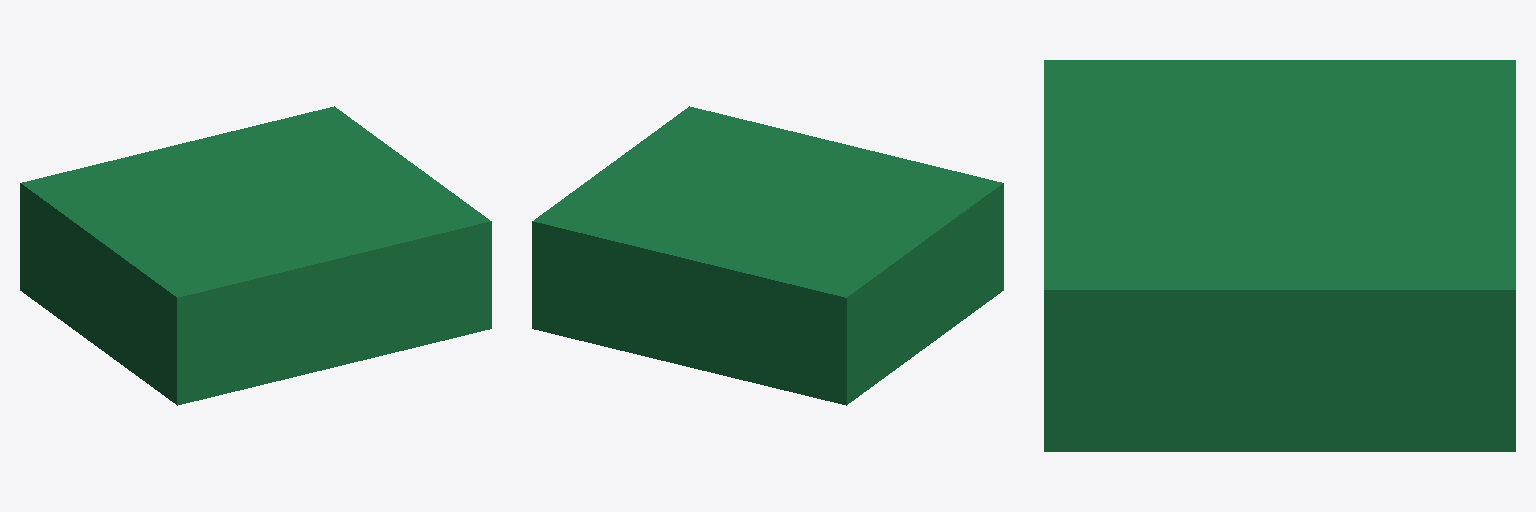
robot.urdf — myfirst:
<?xml version="1.0"?>
 <robot name="myfirst">
   <material name="dark_green">
     <color rgba="0.18039 0.5451 0.341176 1"/>
   </material>
   <link name="right_leg">
     <visual>
       <geometry>
         <box size="0.0851 0.0737 0.0279"/>
       </geometry>
       <material name="dark_green"/>
     </visual>
     <inertial>
       <mass value="0"/>
       <inertia ixx="1.0" ixy="0.0" ixz="0.0" iyy="1.0" iyz="0.0" izz="1.0"/>
     </inertial>
   </link>
 </robot>

--- Facts derived from the render (not from the file) ---
The picture shows the robot from 3 angles, left to right: view 1: azimuth 30°, elevation 25°; view 2: azimuth 150°, elevation 25°; view 3: azimuth 270°, elevation 25°; orthographic projection.
Robot: myfirst — 1 links, 0 joints (none); root link right_leg; default pose: every joint at zero.
Links seen in each view (by area): view 1: right_leg; view 2: right_leg; view 3: right_leg.
Link boxes in pixels (x1,y1,x2,y2): right_leg: (20, 106, 491, 405); right_leg: (532, 106, 1003, 405); right_leg: (1044, 60, 1515, 451).
Bounding box of the posed robot: 0.0851 × 0.0737 × 0.0279 m (x, y, z).
Geometry: primitives only (box / cylinder / sphere), no mesh files.
